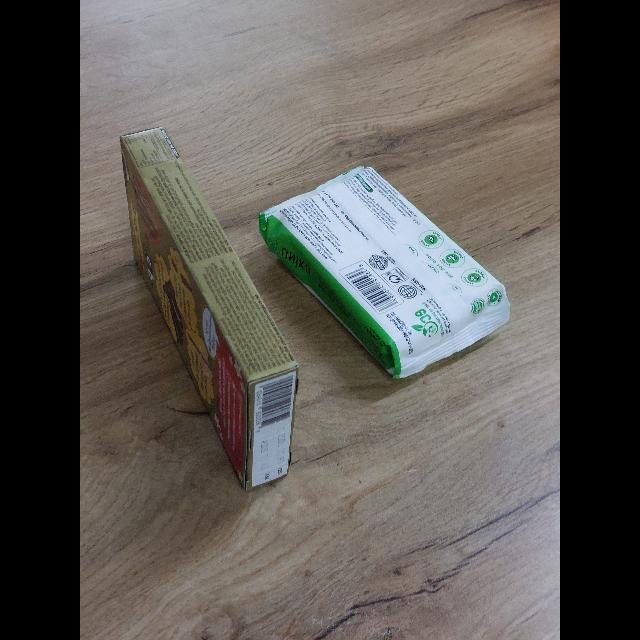banh_toppo_socola: (120, 128, 298, 489)
khan_giay: (259, 166, 510, 378)
